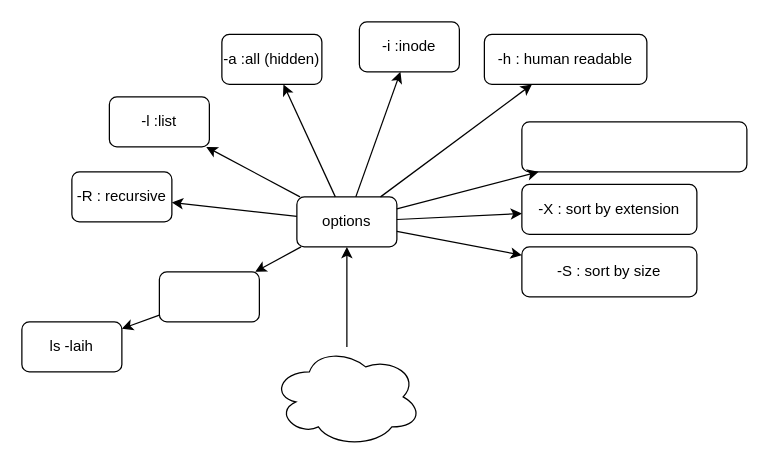
The diagram is 769 pixels wide and 469 high, and some of its shapes have lost their labels. The shapes that lost their labels are listed below. From the top down, each one's centre as x and y in pixels, then its label:
the point at 634,146: -t : sort by modification time
the point at 208,296: cumulative
the point at 346,396: ls
